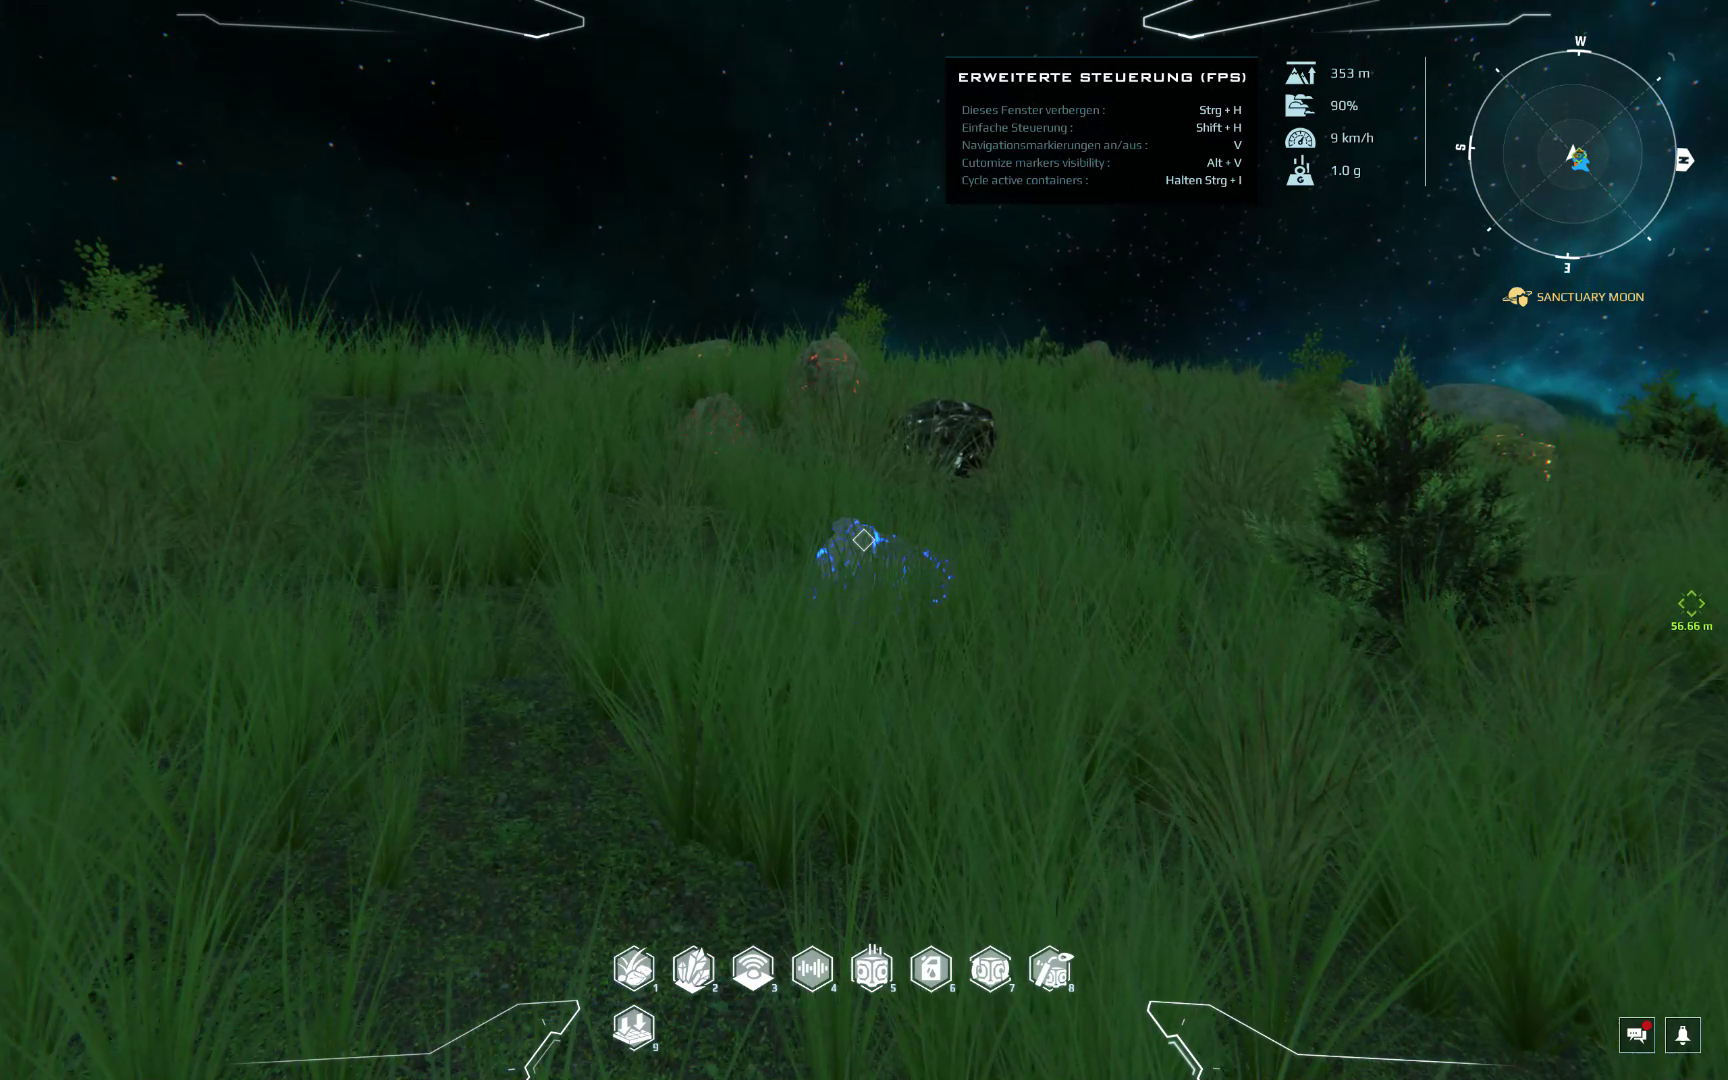Ore: (800, 514, 955, 617), (882, 393, 996, 483), (1452, 416, 1558, 489), (787, 335, 865, 417), (674, 392, 756, 455), (1279, 372, 1378, 419), (644, 336, 739, 370)
